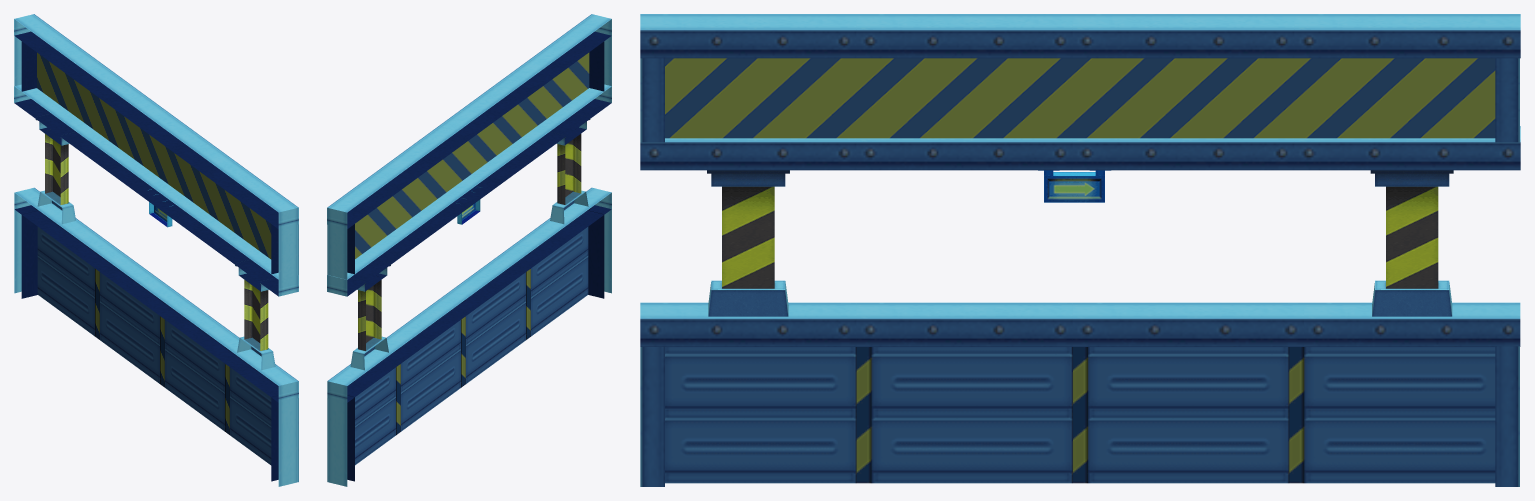
Rendered from cj_pingfeng.fbx.
The picture shows the model from 3 angles, left to right: view 1: azimuth 30°, elevation 25°; view 2: azimuth 150°, elevation 25°; view 3: azimuth 270°, elevation 25°; orthographic projection. The views are drawn at different scales.
Parts seen in each view (by area): view 1: cj_pingfeng; view 2: cj_pingfeng; view 3: cj_pingfeng.
Part boxes in pixels (<box>): cj_pingfeng: <box>14,14,298,486</box>; cj_pingfeng: <box>327,14,611,486</box>; cj_pingfeng: <box>640,14,1520,486</box>.
Size of the model in its own units: 75.25 by 978 by 1710.
